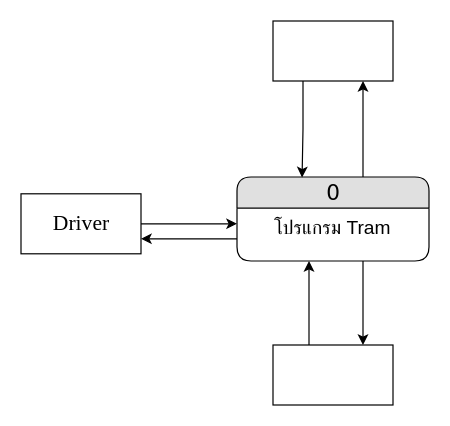
The diagram is 450 pixels wide and 426 high, and some of its shapes have lost their labels. The centre of each missing label's shape, as x and y in pixels:
Admin: (x=332, y=374)
User: (x=332, y=50)
